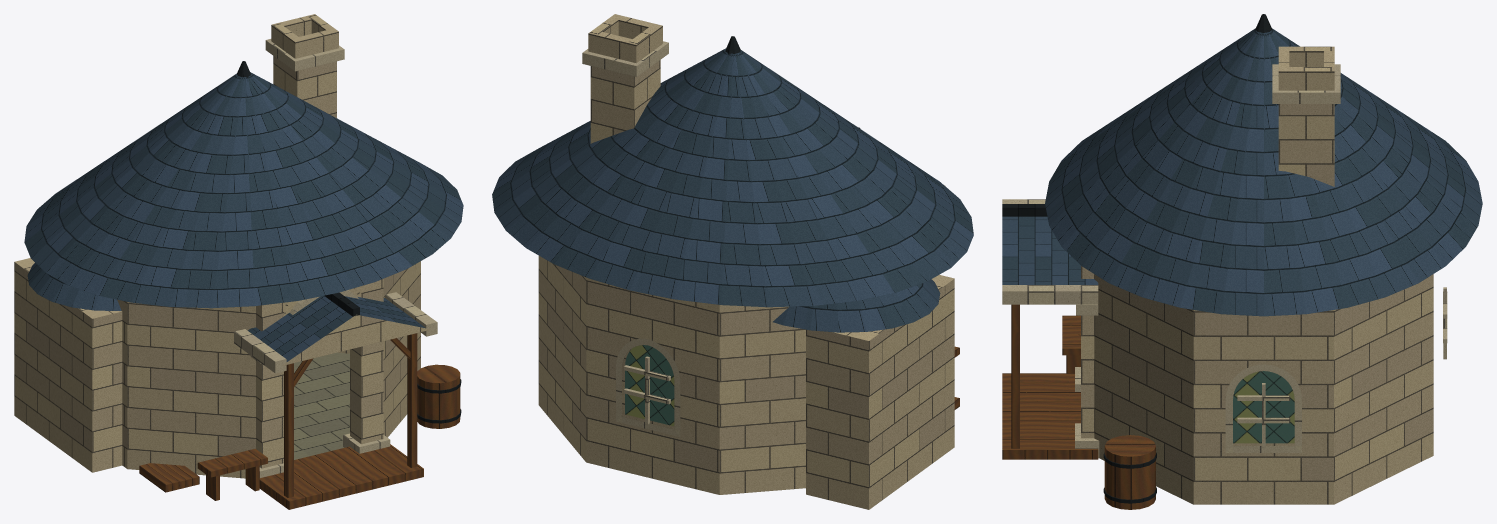
The model's file is building_1792077234.glb.
3 views of the same model, side by side, from view 1: azimuth 30°, elevation 25°; view 2: azimuth 150°, elevation 25°; view 3: azimuth 270°, elevation 25° (orthographic). The views are drawn at different scales.
Parts seen in each view (by area): view 1: hagrid-hut-slate, hagrid-hut-stone, hagrid-hut-wood, hagrid-hut-paving, hagrid-hut-trim, hagrid-hut-metal; view 2: hagrid-hut-slate, hagrid-hut-stone, hagrid-hut-trim, hagrid-hut-glass; view 3: hagrid-hut-slate, hagrid-hut-stone, hagrid-hut-wood, hagrid-hut-trim, hagrid-hut-glass, hagrid-hut-metal.
Part boxes in pixels (x1=…): hagrid-hut-slate: x1=24, y1=72, x2=463, y2=361; hagrid-hut-stone: x1=14, y1=14, x2=430, y2=478; hagrid-hut-wood: x1=139, y1=333, x2=460, y2=509; hagrid-hut-paving: x1=294, y1=352, x2=349, y2=459; hagrid-hut-trim: x1=234, y1=39, x2=437, y2=477; hagrid-hut-metal: x1=237, y1=61, x2=461, y2=423; hagrid-hut-slate: x1=492, y1=48, x2=973, y2=332; hagrid-hut-stone: x1=538, y1=14, x2=954, y2=509; hagrid-hut-trim: x1=582, y1=41, x2=944, y2=436; hagrid-hut-glass: x1=625, y1=345, x2=674, y2=426; hagrid-hut-slate: x1=1002, y1=28, x2=1482, y2=316; hagrid-hut-stone: x1=1081, y1=46, x2=1433, y2=504; hagrid-hut-wood: x1=1002, y1=304, x2=1155, y2=509; hagrid-hut-trim: x1=1002, y1=64, x2=1447, y2=458; hagrid-hut-glass: x1=1233, y1=371, x2=1294, y2=443; hagrid-hut-metal: x1=1002, y1=14, x2=1272, y2=503.
Size of the model in its own units: 10 by 8.42 by 9.
Materials: 7 (7 with a texture image).
